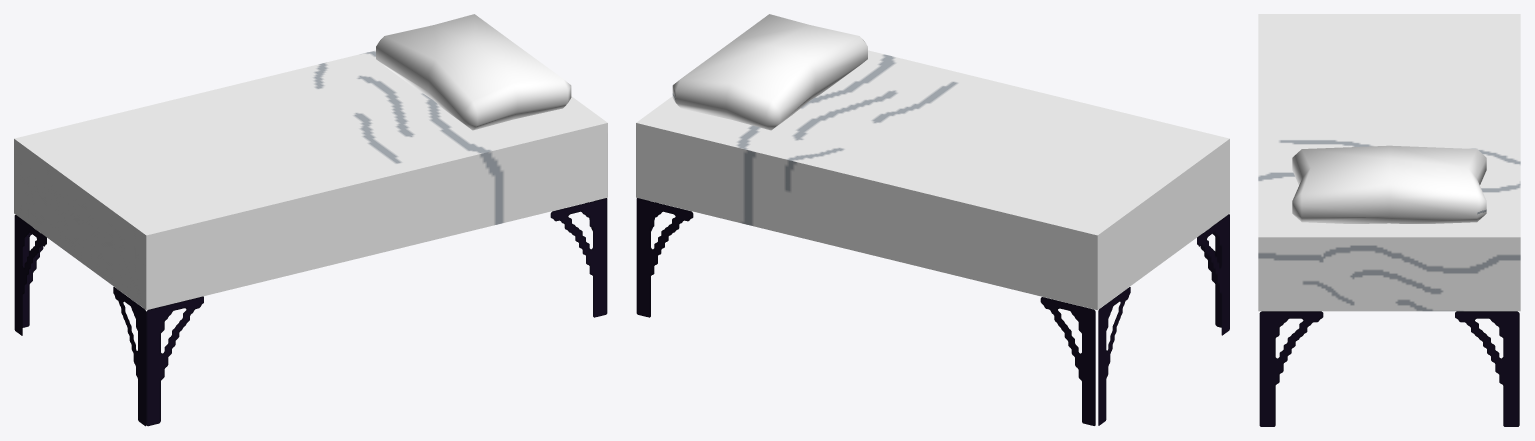
The model's file is bed.fbx.
The picture shows the model from 3 angles, left to right: view 1: azimuth 30°, elevation 25°; view 2: azimuth 150°, elevation 25°; view 3: azimuth 270°, elevation 25°; orthographic projection.
Parts seen in each view (by area): view 1: Cube; view 2: Cube; view 3: Cube.
Boxes of the visible parts, left/top/right/bottom form: Cube: left=14, top=14, right=607, bottom=426; Cube: left=636, top=14, right=1229, bottom=425; Cube: left=1258, top=14, right=1520, bottom=426.
Size of the model in its own units: 543 by 266 by 270.
